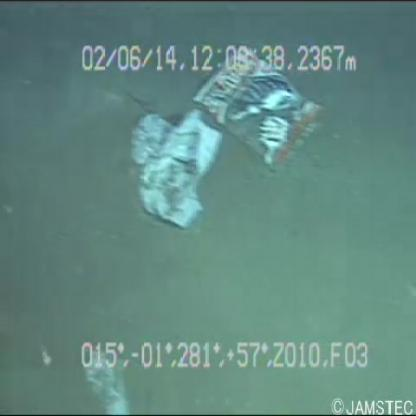Rác: (191, 35, 333, 178), (116, 109, 234, 239)
